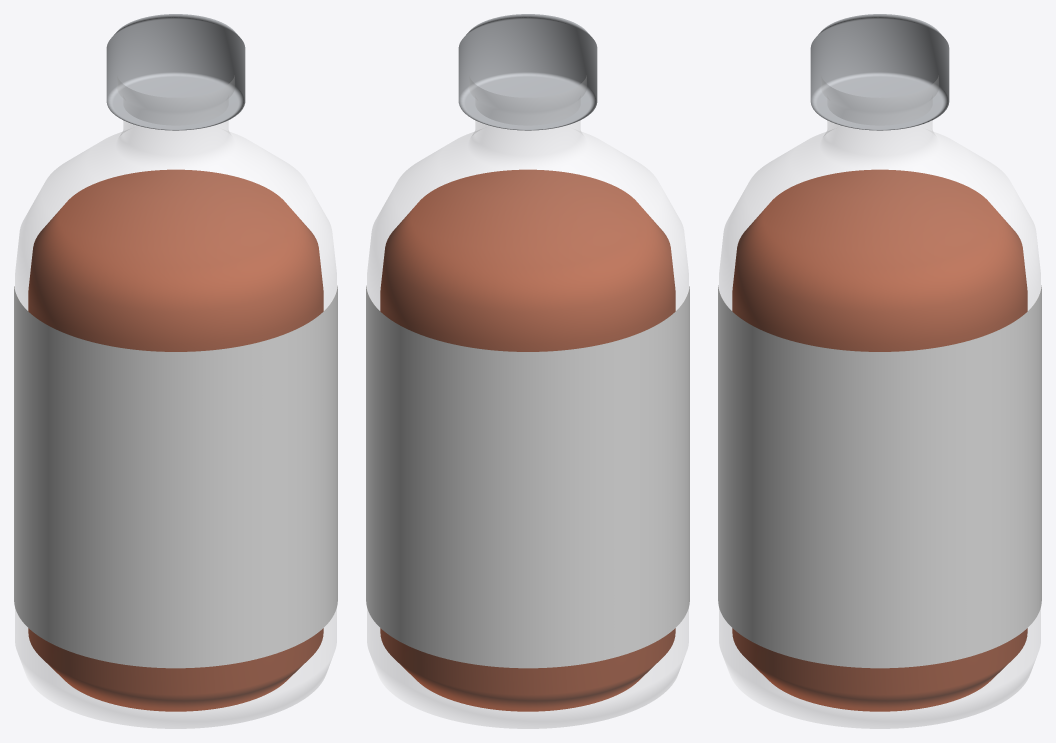
Rendered from bottle.glb.
3 renders of one model, left to right at view 1: azimuth 30°, elevation 25°; view 2: azimuth 150°, elevation 25°; view 3: azimuth 270°, elevation 25°, orthographic.
Visible parts, largest first — view 1: Label, Glass, Content, Cap; view 2: Label, Glass, Content, Cap; view 3: Label, Glass, Content, Cap.
Part boxes in pixels (x1,y1,x2,y2): Label: (14,285,337,668); Glass: (15,76,336,728); Content: (28,169,323,711); Cap: (106,14,245,130); Label: (366,285,689,668); Glass: (367,76,688,728); Content: (380,169,675,711); Cap: (458,14,597,130); Label: (718,285,1041,668); Glass: (719,76,1040,728); Content: (732,169,1027,711); Cap: (810,14,949,130).
Bounding box in the file's own units: 0.724 × 1.56 × 0.724.
